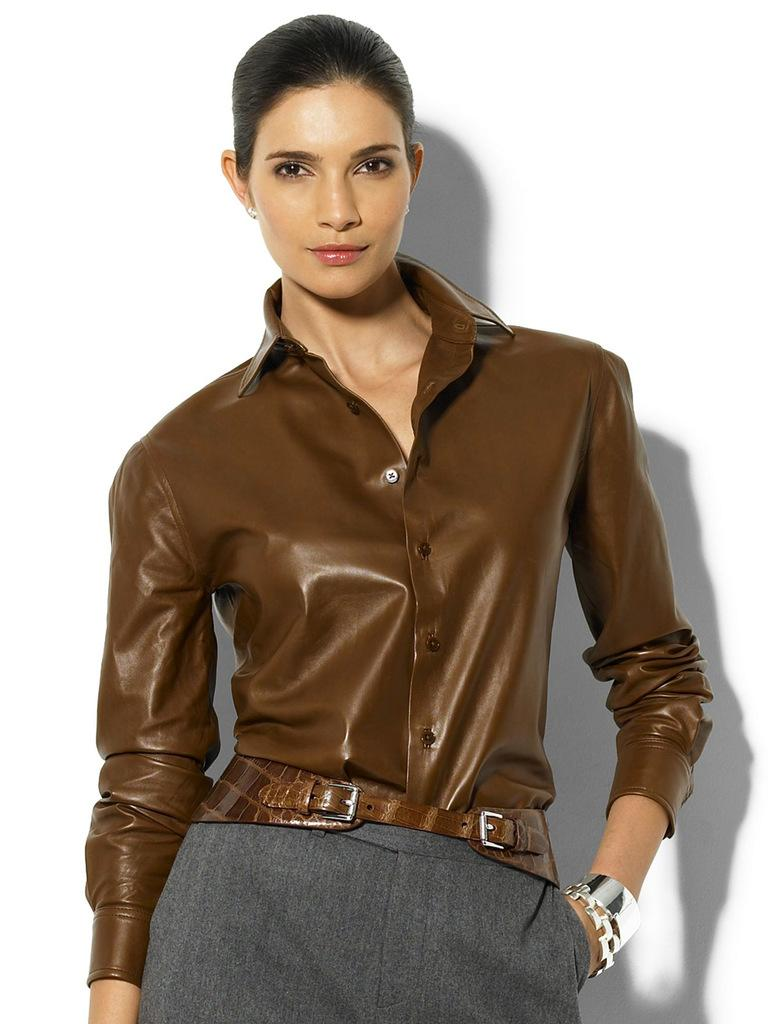no_helmet: (263, 18, 411, 120)
none: (224, 335, 530, 824)
